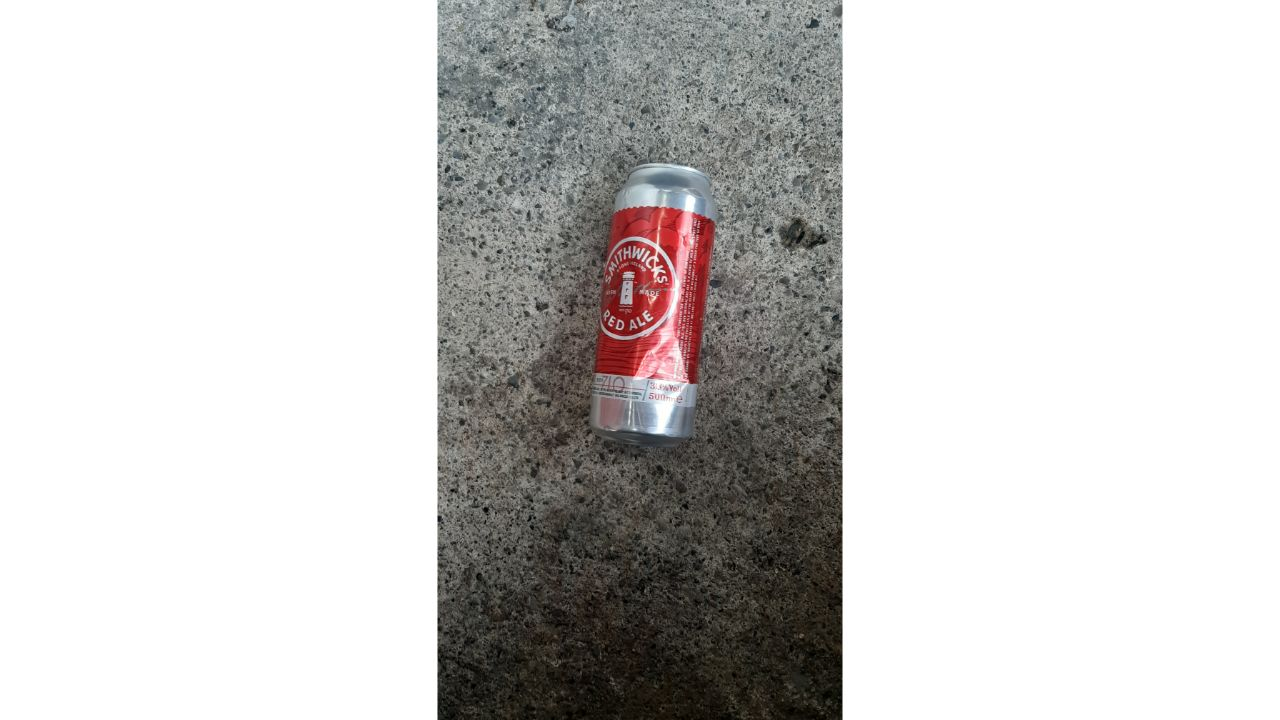Can: (573, 146, 739, 484)
